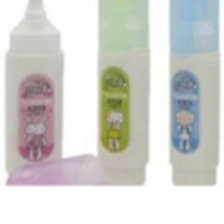correction_fluid: (2, 0, 67, 183), (94, 0, 150, 190), (166, 0, 221, 192)
